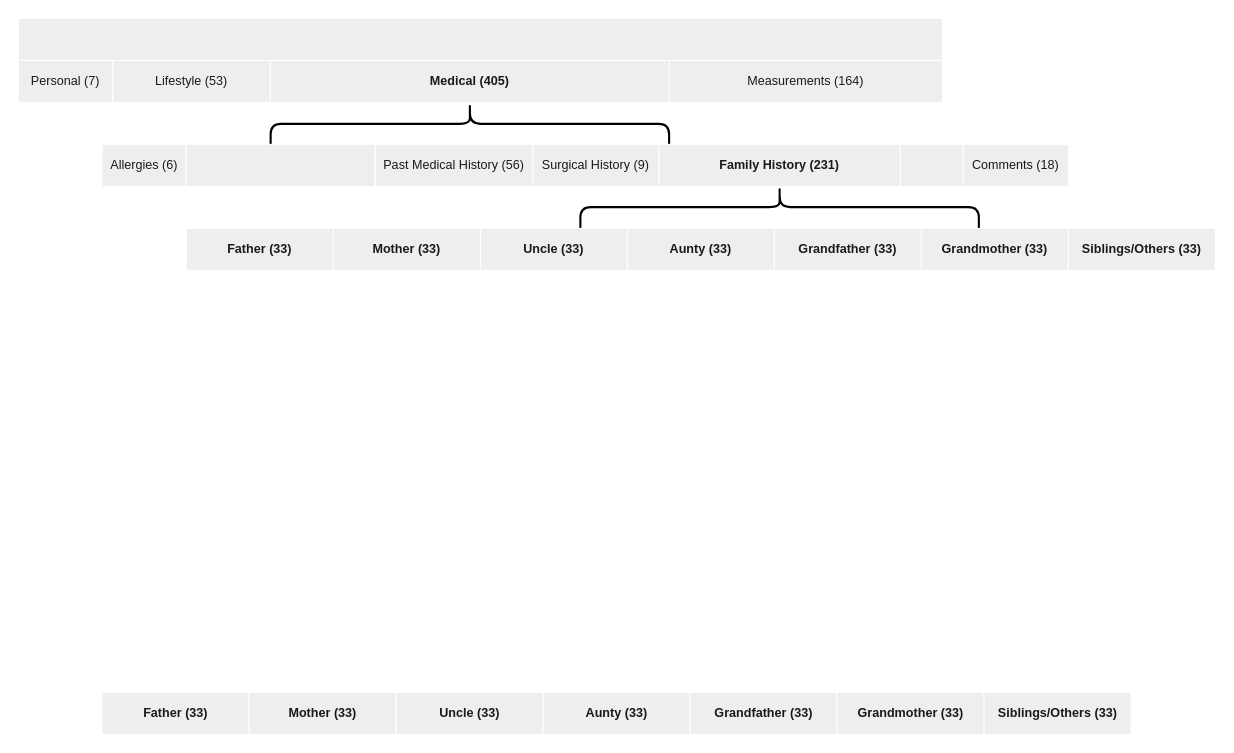
Some shapes in this 1234 by 753 pixel diagram are drawn without their labels. The centre of each missing label's shape, as x and y in pixels:
"AD (5)" belongs at [931,164].
"Current Medications (80)" belongs at [280,164].
"The Max Health dataset (629 features)" belongs at [479,38].
